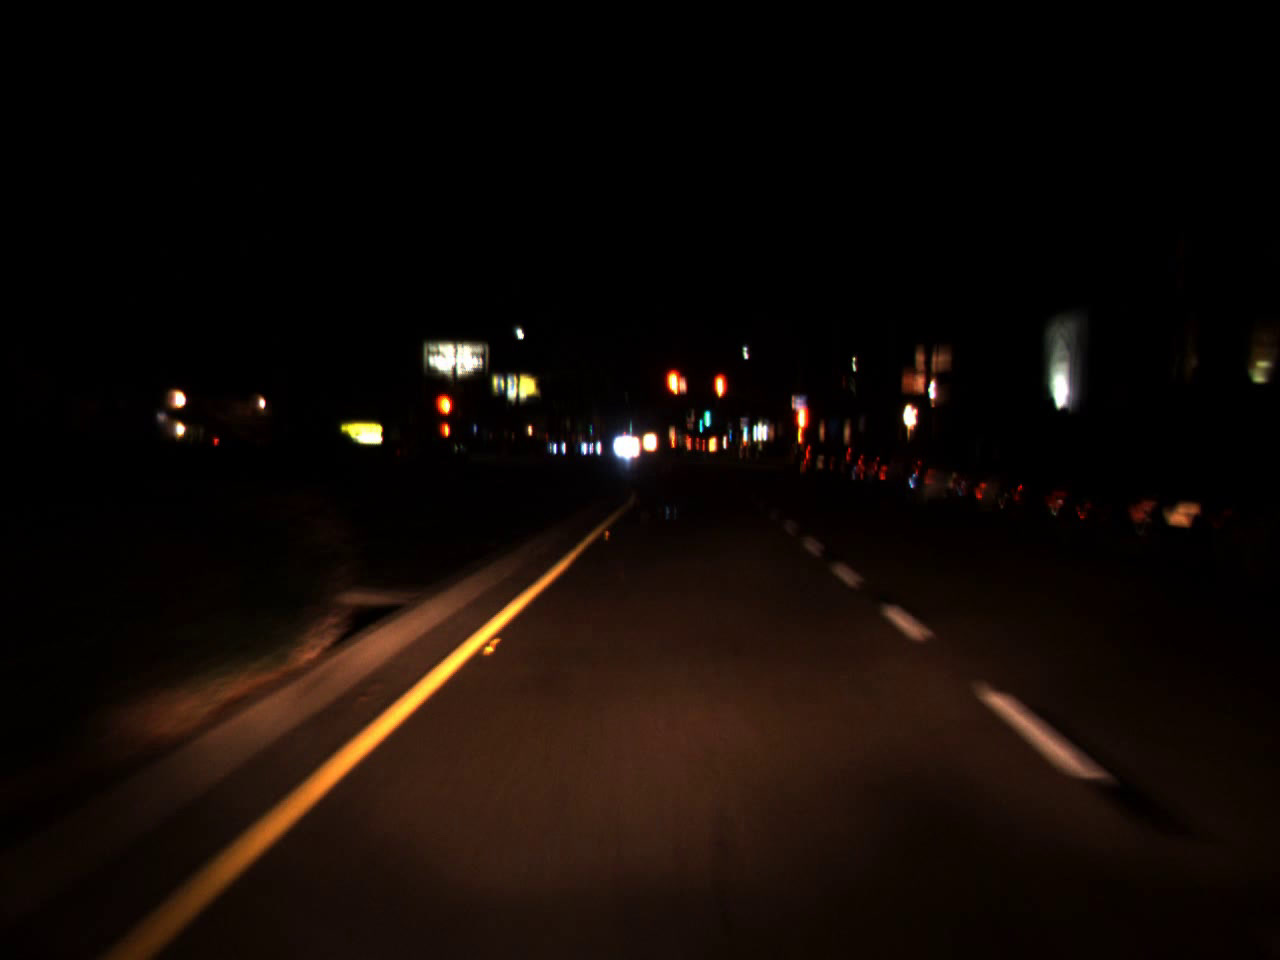go: (701, 393, 708, 432), (724, 420, 734, 438), (741, 416, 748, 437), (697, 408, 704, 429)
stop: (663, 365, 685, 421), (434, 391, 455, 439), (712, 369, 728, 425), (795, 405, 810, 440)
